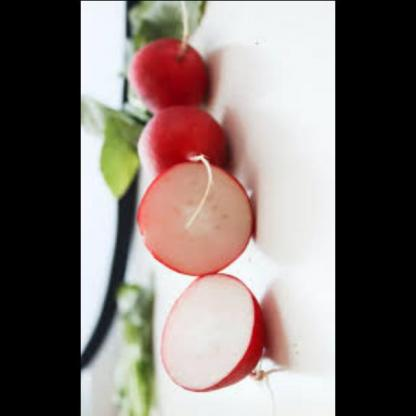rediska: (136, 155, 258, 277), (158, 271, 266, 391), (132, 104, 235, 177), (126, 35, 213, 106)
